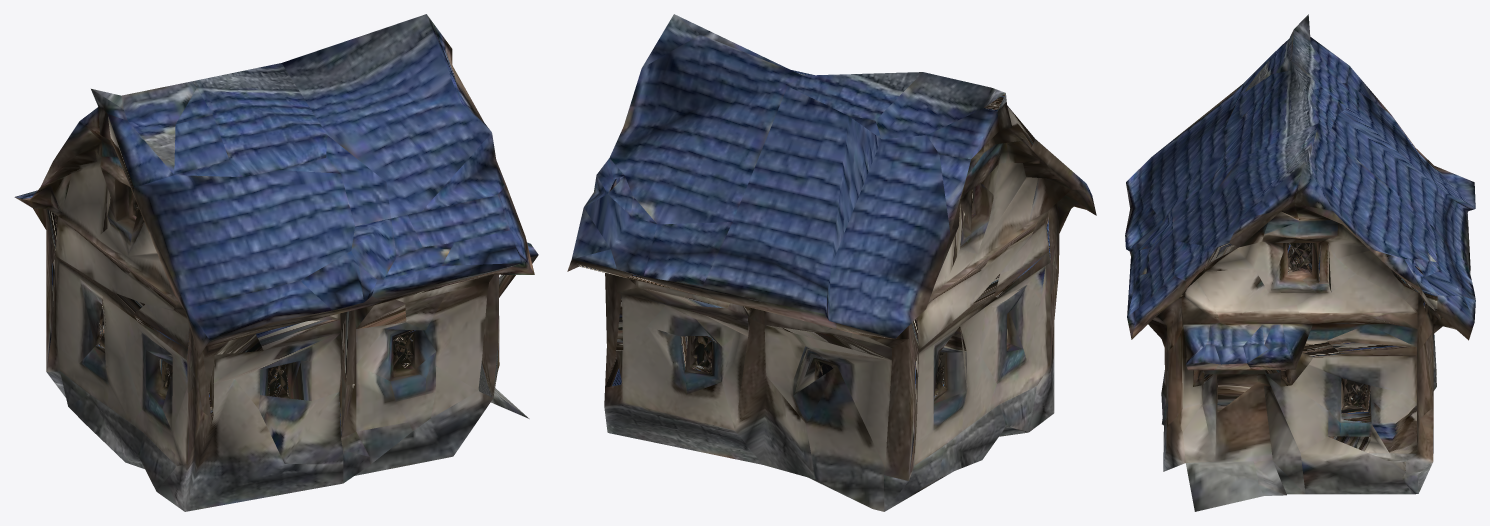
File: house_generic_b.glb
3 views of the same model, side by side, from view 1: azimuth 30°, elevation 25°; view 2: azimuth 150°, elevation 25°; view 3: azimuth 270°, elevation 25° (orthographic). The views are drawn at different scales.
Parts seen in each view (by area): view 1: tripo_node_ec88c3ae-fc66-42d7-b53e-eef88047a0cc; view 2: tripo_node_ec88c3ae-fc66-42d7-b53e-eef88047a0cc; view 3: tripo_node_ec88c3ae-fc66-42d7-b53e-eef88047a0cc.
Part boxes in pixels (x1,y1,x2,y2): tripo_node_ec88c3ae-fc66-42d7-b53e-eef88047a0cc: (14, 14, 538, 511); tripo_node_ec88c3ae-fc66-42d7-b53e-eef88047a0cc: (567, 14, 1096, 511); tripo_node_ec88c3ae-fc66-42d7-b53e-eef88047a0cc: (1125, 14, 1475, 511).
Bounding box in the file's own units: 0.976 × 0.9208 × 0.8719.
Materials: 1 (1 with a texture image).
